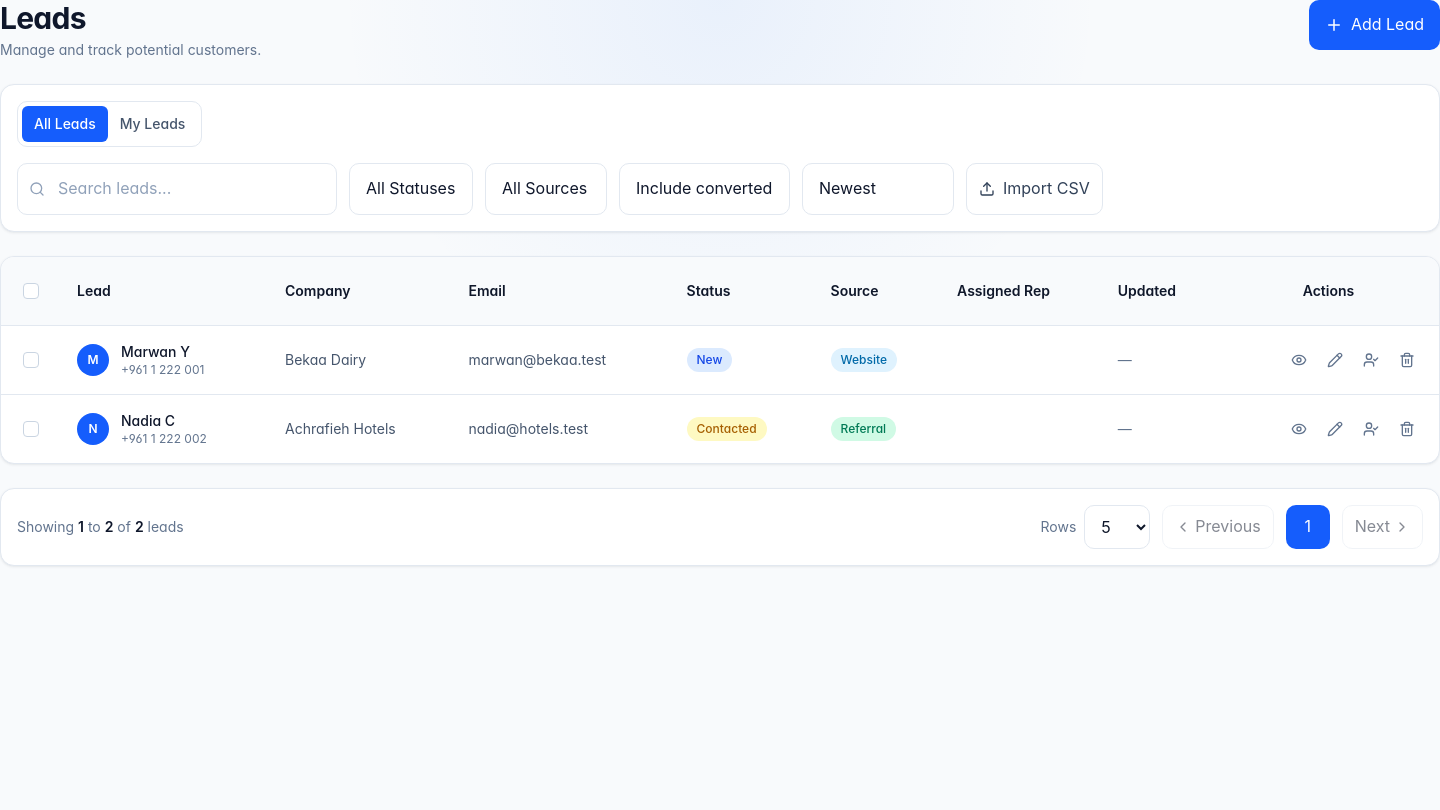
Test case: Lead — conversion › warns when the email really is already a customer
Click the button named "Convert Nadia C to a customer" at (1371, 429), box [1355,413,1387,445]
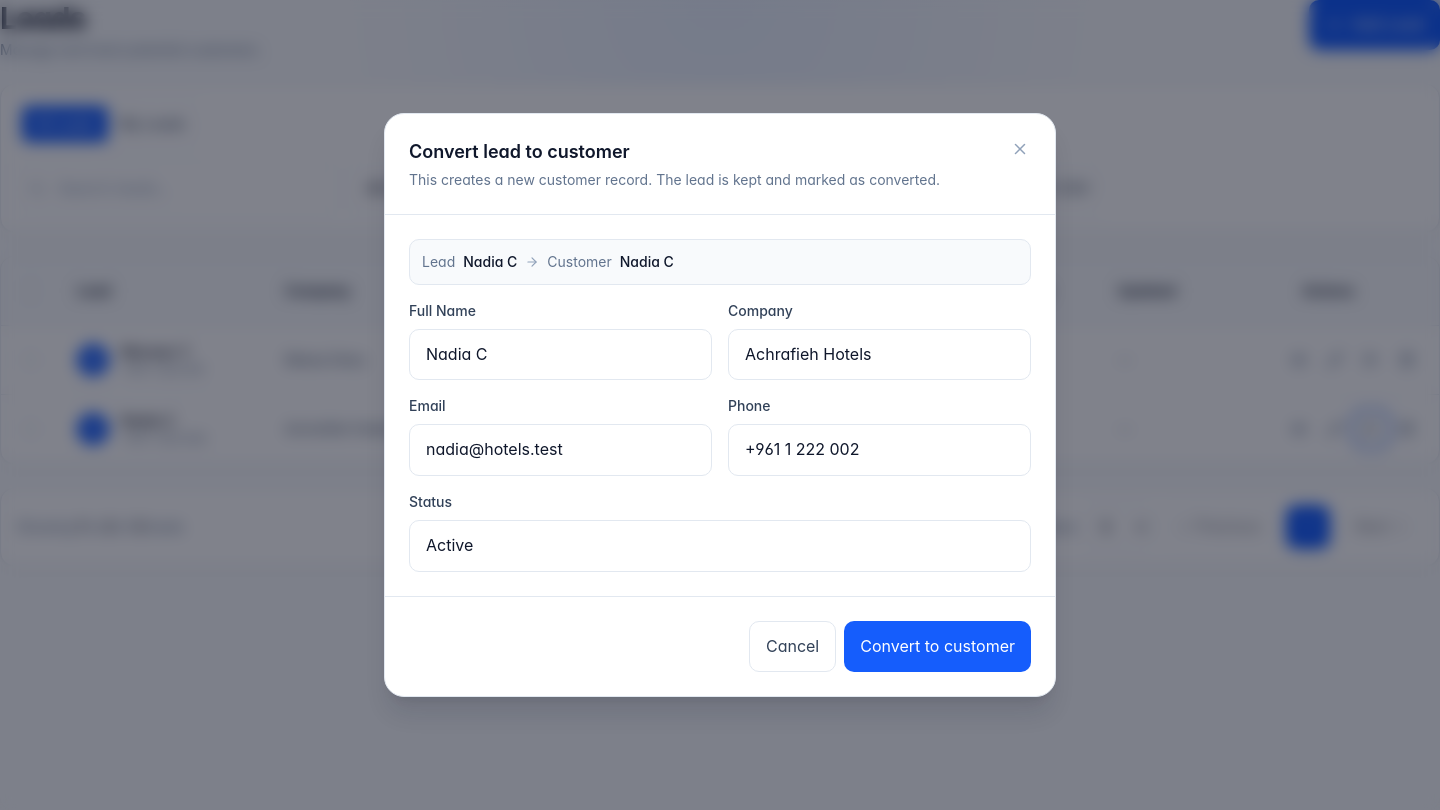
Replace the text in the field labelled "Email" with "jad@vertex.test" at (560, 450), box [409,424,712,476]
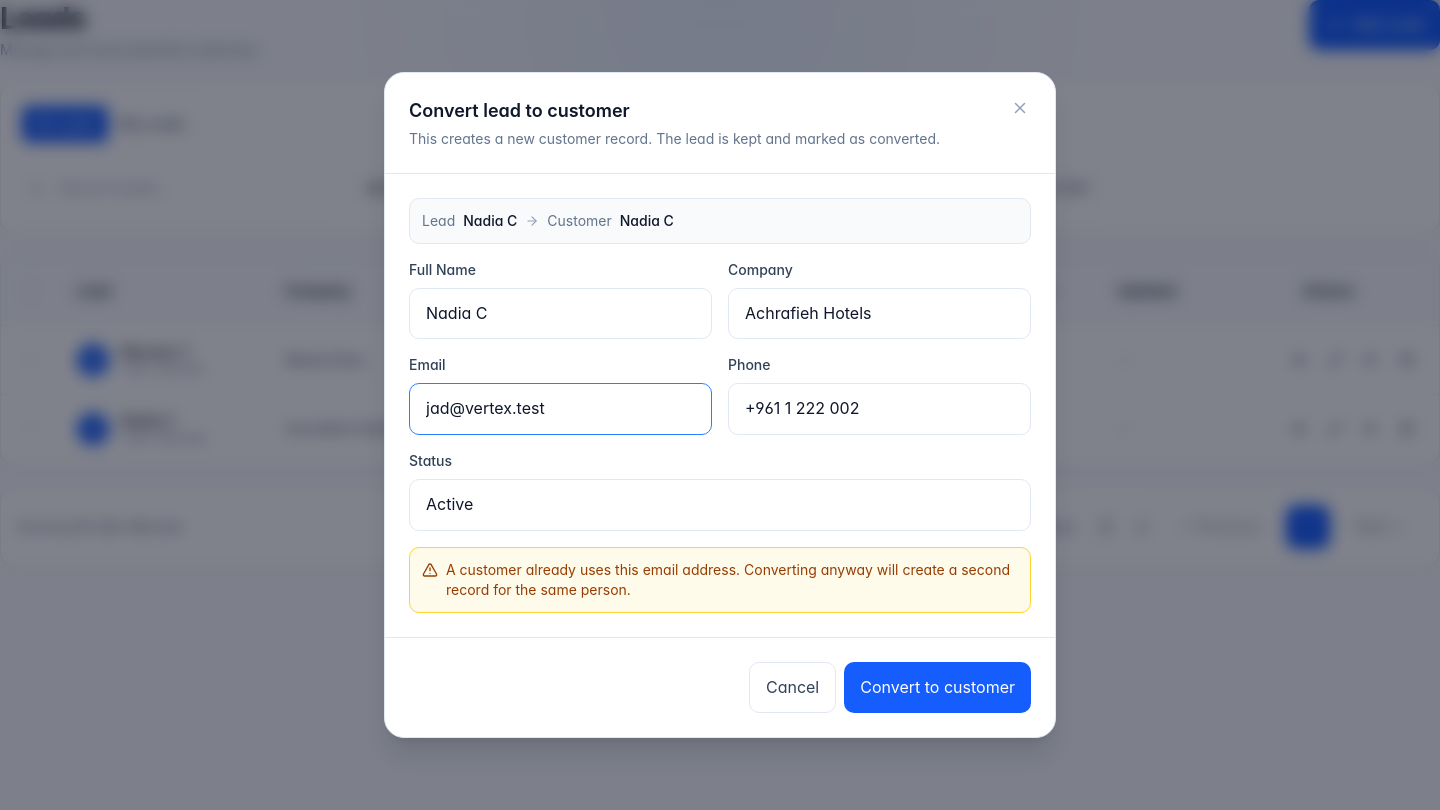
Expected: the text "already uses this email" is shown, [446,561,1010,598]
